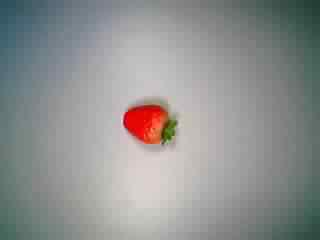strawberry: (117, 88, 183, 150)
